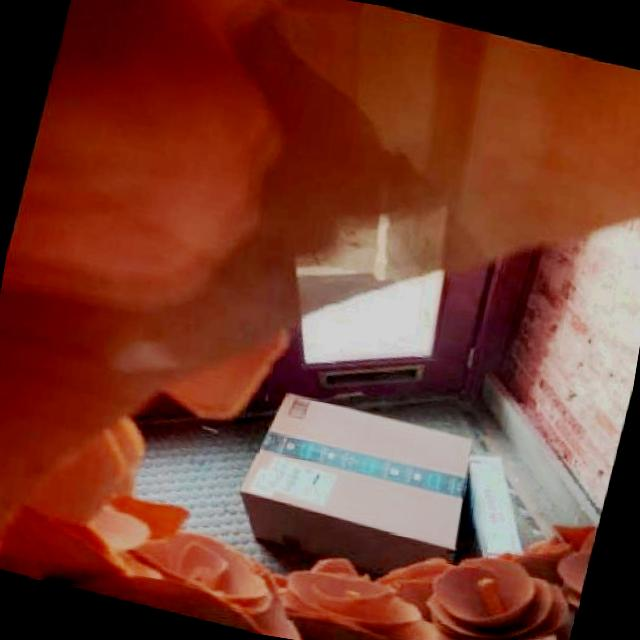Box: (226, 384, 484, 592), (446, 448, 547, 568)
